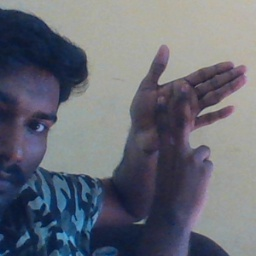N: (125, 43, 249, 190)
